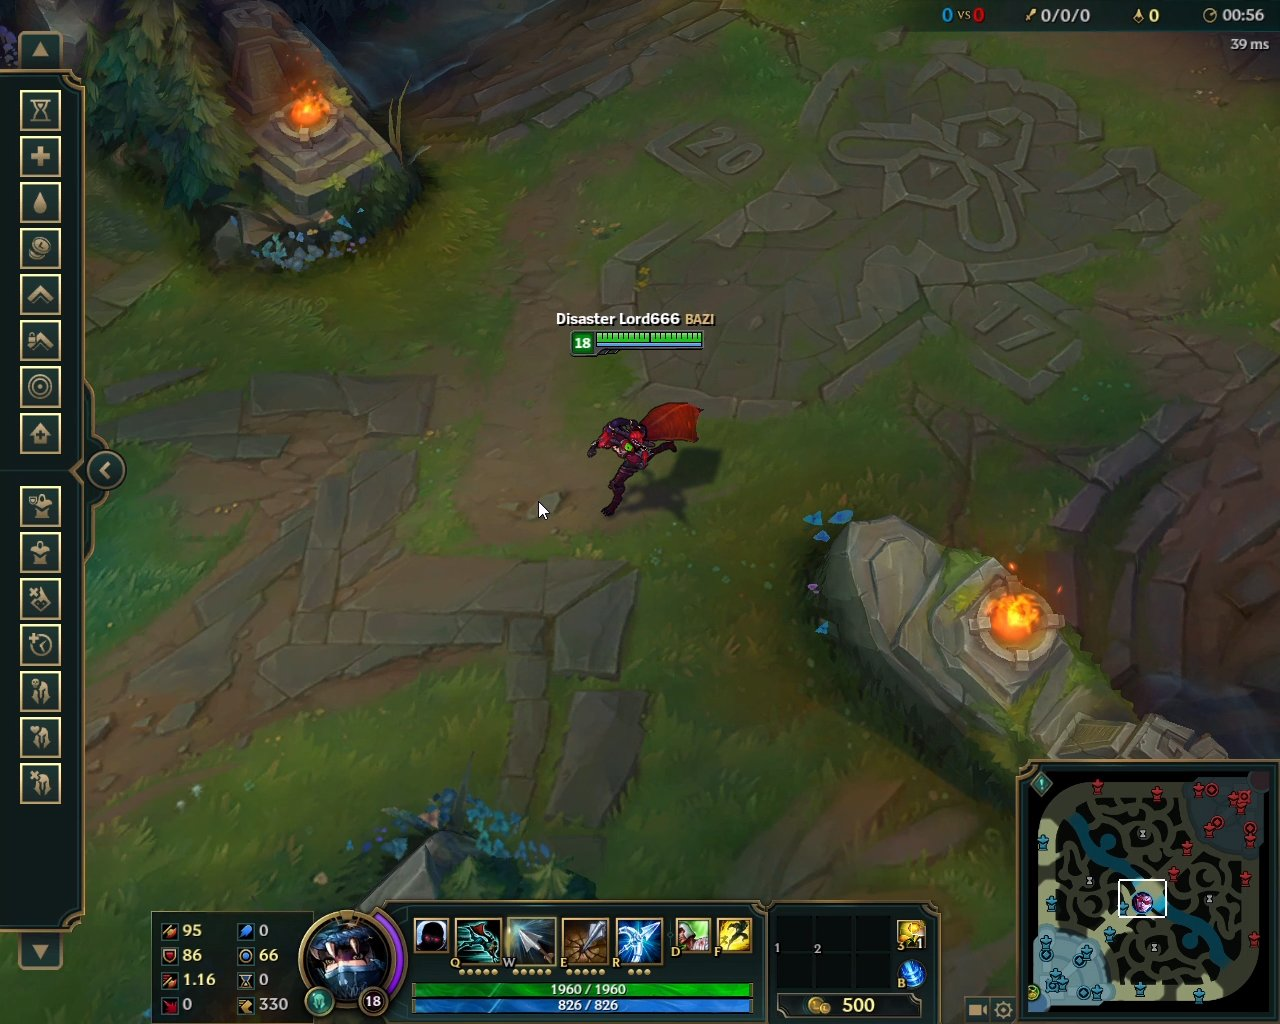Vayne: (575, 396, 712, 523)
